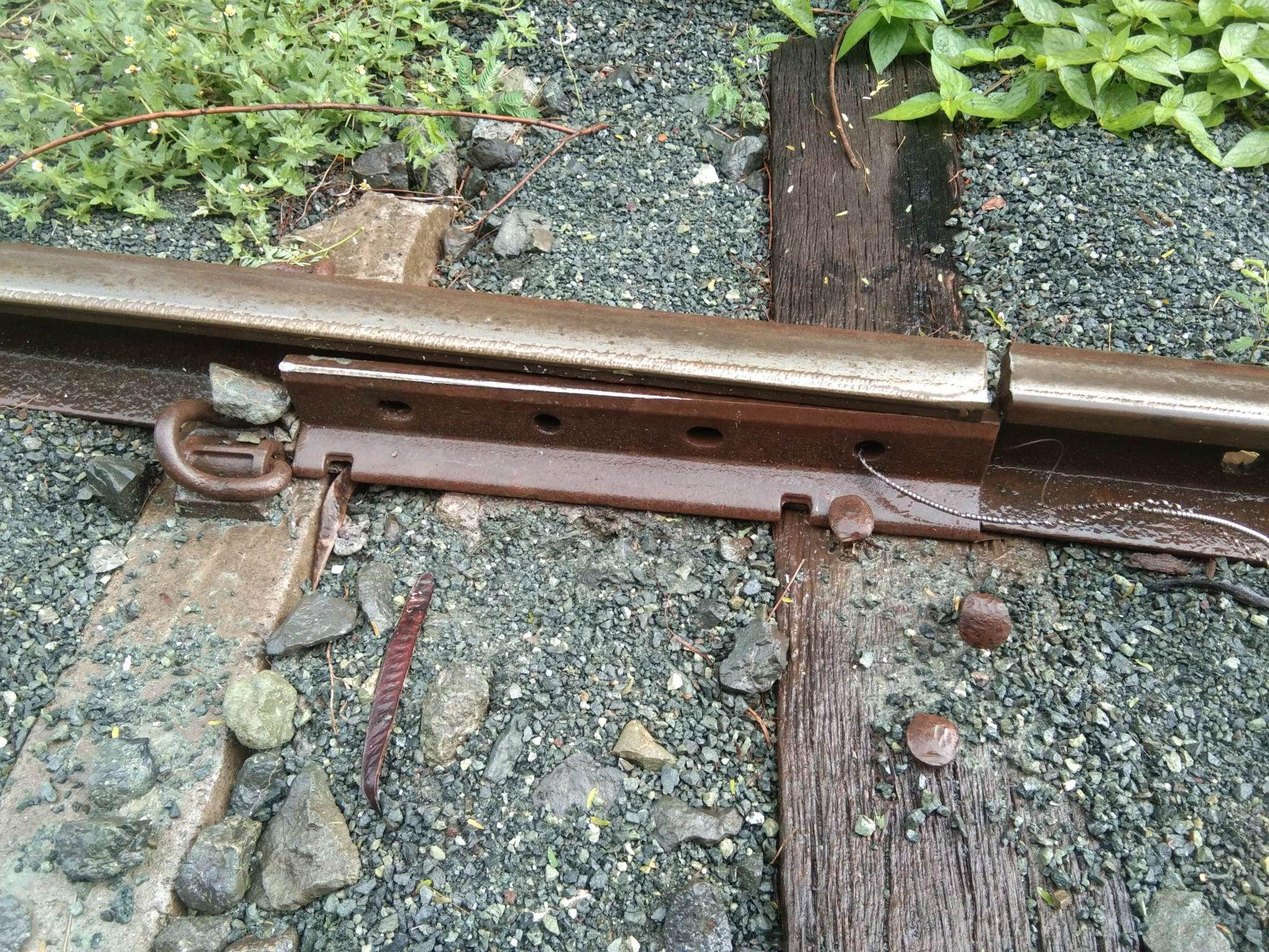railway-gap: (925, 313, 1066, 439)
